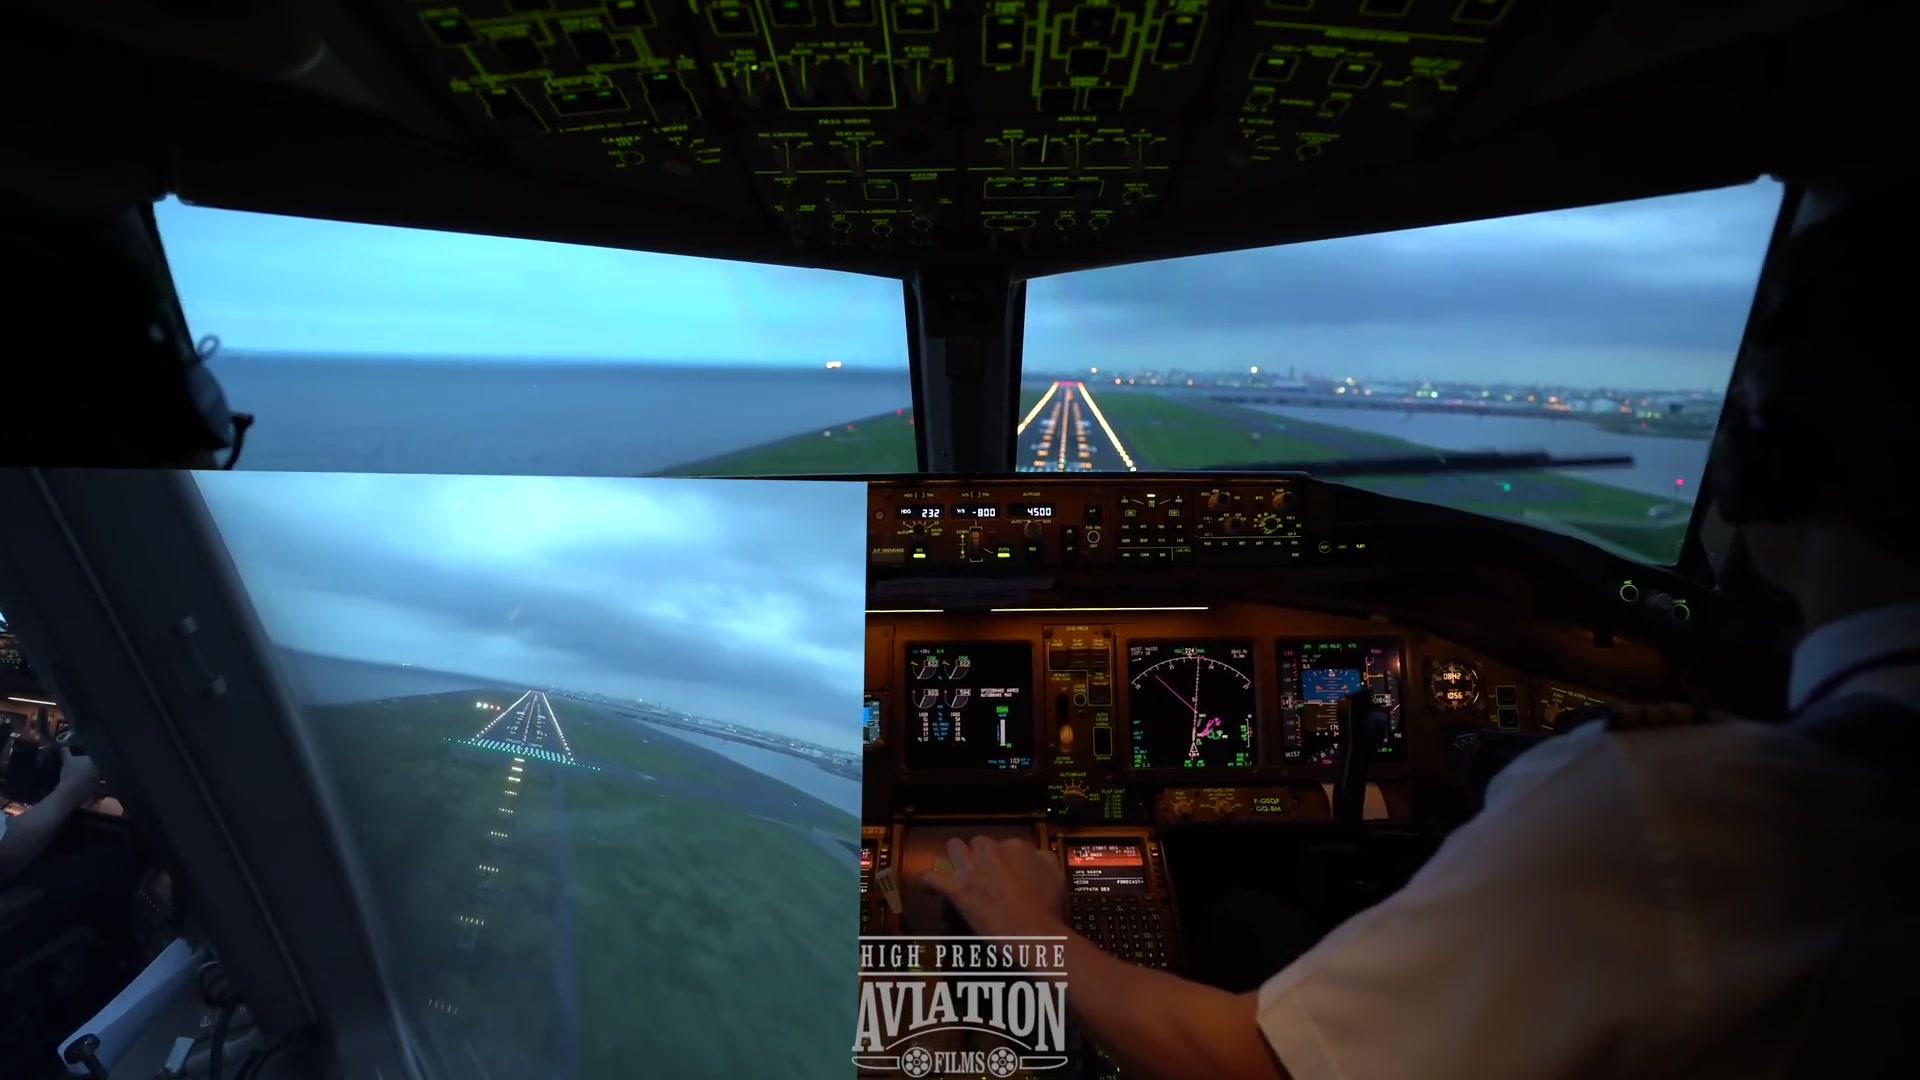entrance: (477, 736, 567, 762)
runway: (1001, 375, 1149, 489), (468, 688, 579, 765)
